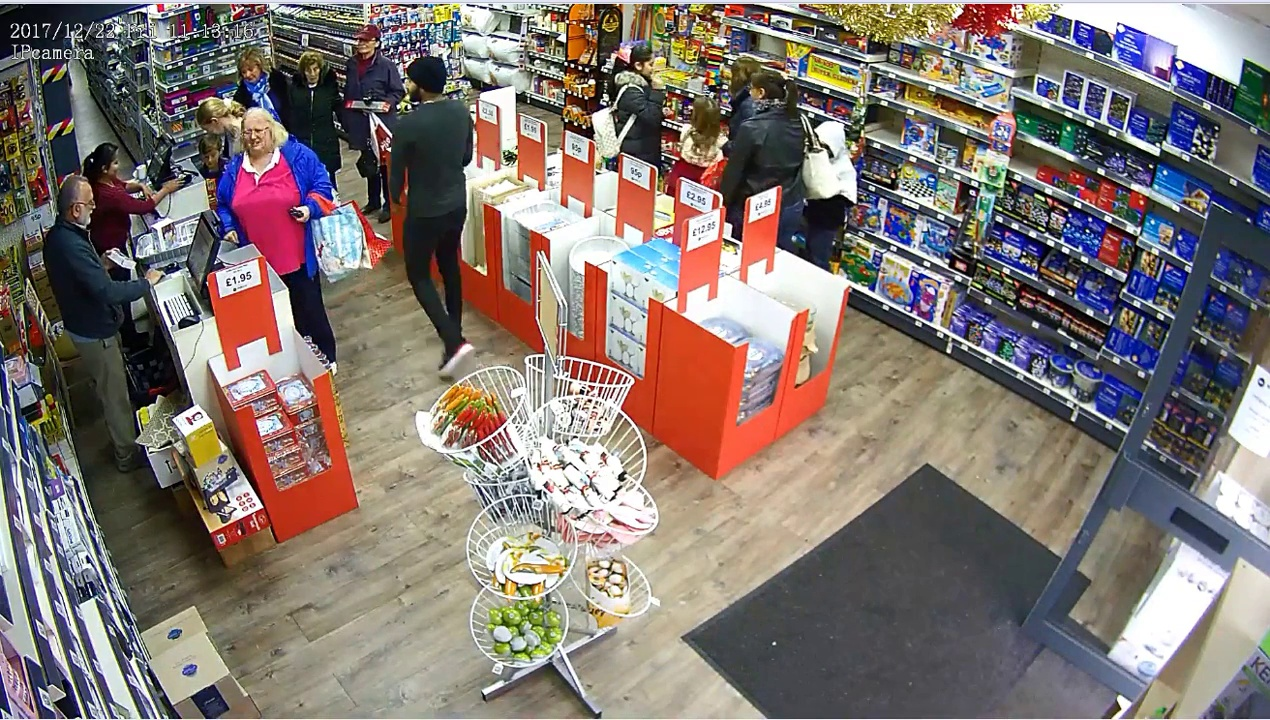face: (236, 115, 270, 155), (73, 187, 99, 224), (357, 32, 379, 61), (237, 56, 258, 85), (300, 56, 320, 85)
